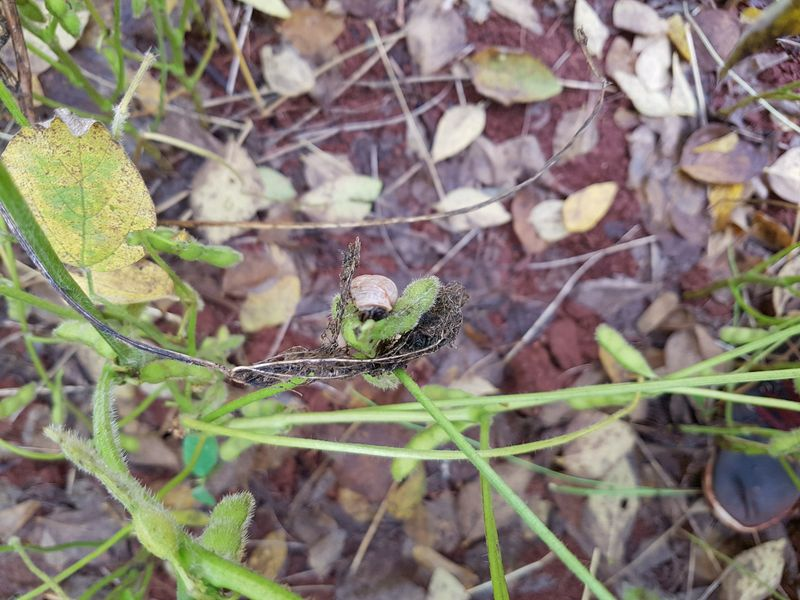Gastropoda: (343, 270, 402, 317)
